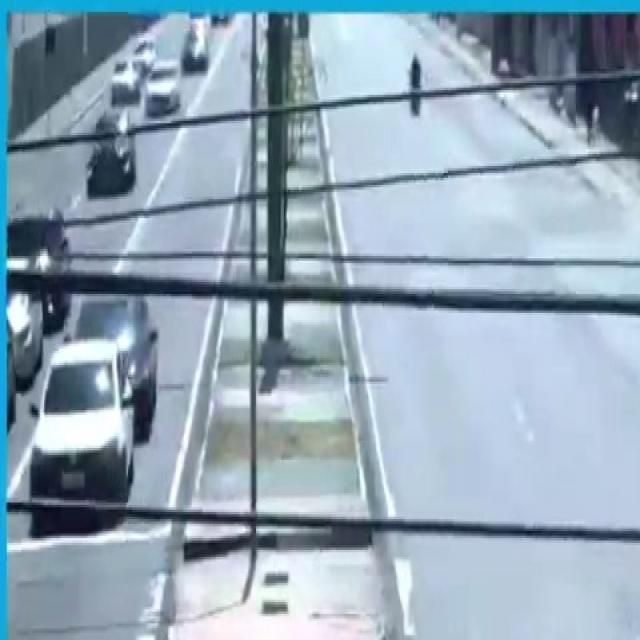car: (27, 337, 134, 546), (144, 48, 183, 121)
